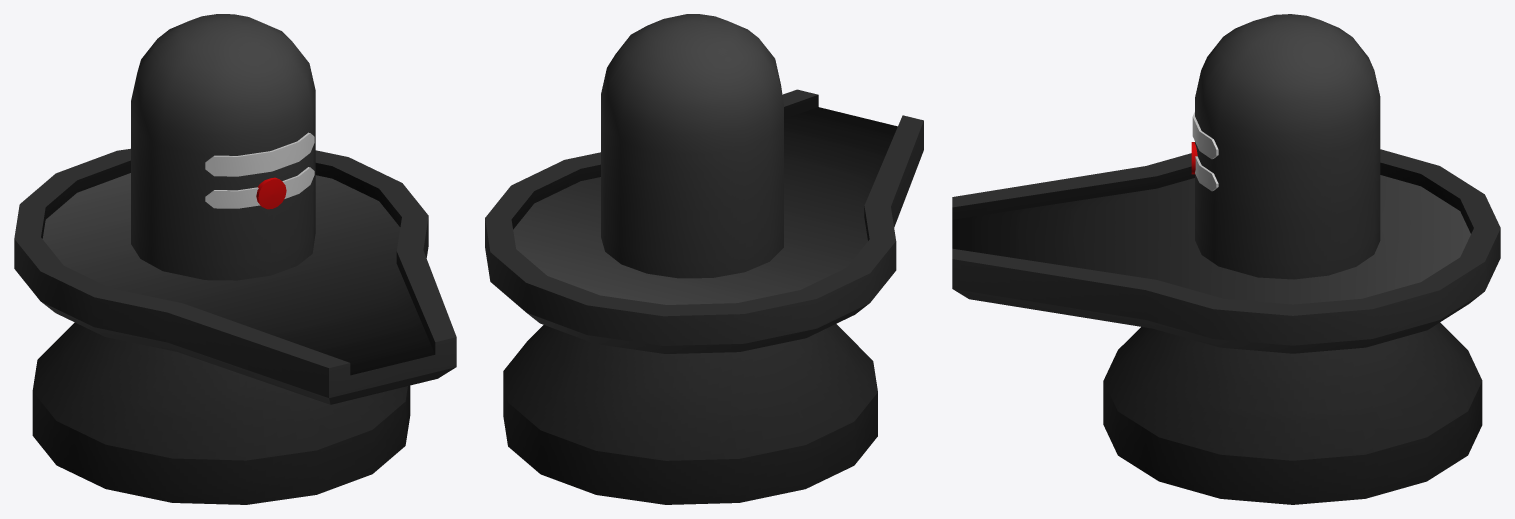
The model's file is Shiva Linga.glb.
3 renders of one model, left to right at view 1: azimuth 30°, elevation 25°; view 2: azimuth 150°, elevation 25°; view 3: azimuth 270°, elevation 25°, orthographic.
Parts seen in each view (by area): view 1: ShivaLInga; view 2: ShivaLInga; view 3: ShivaLInga.
Boxes of the visible parts, <box> form: ShivaLInga: <box>14,14,456,504</box>; ShivaLInga: <box>485,14,923,504</box>; ShivaLInga: <box>952,14,1500,504</box>.
Size of the model in its own units: 0.6626 by 0.6994 by 0.8745.
1 material, 1 textured.
